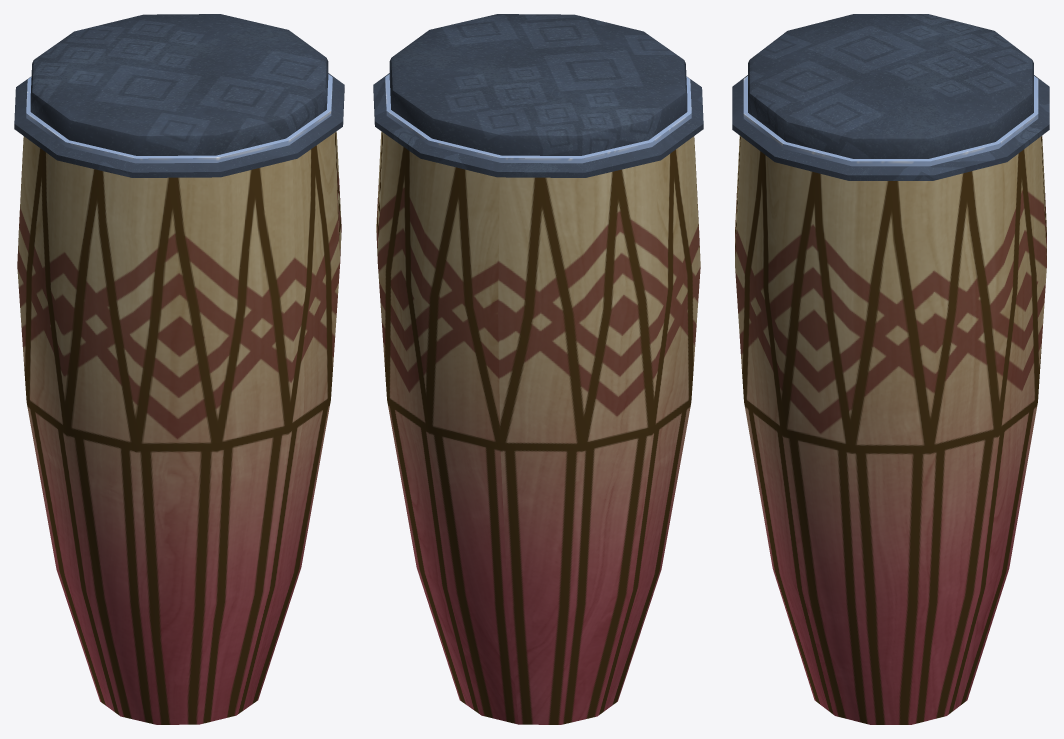
The model's file is T1-1_cununo.fbx.
The picture shows the model from 3 angles, left to right: view 1: azimuth 30°, elevation 25°; view 2: azimuth 150°, elevation 25°; view 3: azimuth 270°, elevation 25°; orthographic projection.
Visible parts, largest first — view 1: Cununo; view 2: Cununo; view 3: Cununo.
Boxes of the visible parts, left/top/right/bottom form: Cununo: left=14, top=14, right=344, bottom=724; Cununo: left=373, top=14, right=703, bottom=724; Cununo: left=732, top=14, right=1049, bottom=724.
Bounding box in the file's own units: 23.04 × 47.76 × 22.11.
